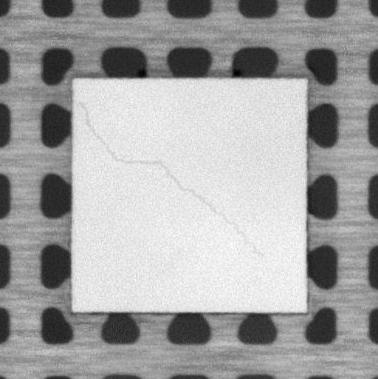DIE_CRACK: (81, 103, 263, 257)
